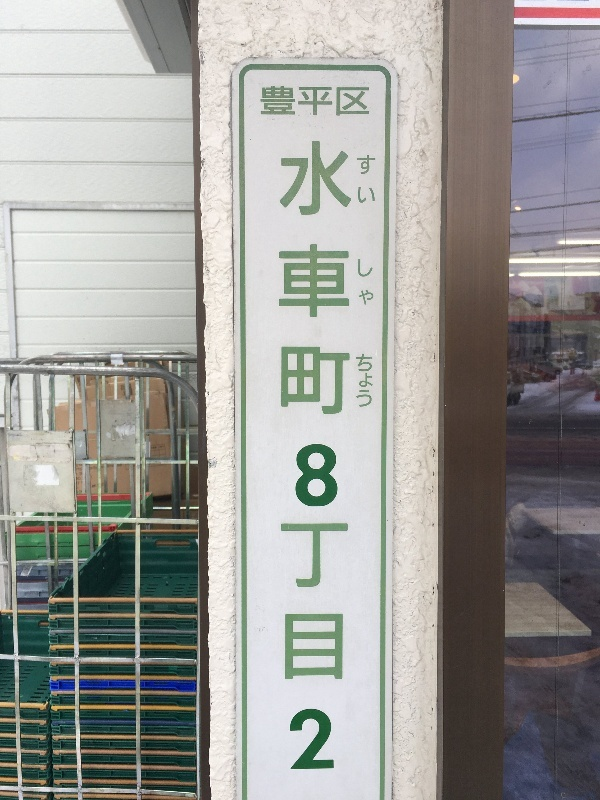text: (289, 139, 304, 775), (305, 139, 320, 775), (321, 139, 336, 775), (337, 139, 352, 775), (281, 139, 288, 775), (356, 354, 368, 408), (357, 155, 368, 205), (358, 258, 368, 306), (273, 85, 288, 116), (289, 85, 304, 116), (305, 85, 320, 116), (321, 85, 336, 116), (337, 85, 352, 116), (353, 85, 368, 116), (369, 155, 377, 205), (260, 85, 272, 116), (369, 258, 374, 306), (369, 354, 373, 408), (369, 85, 370, 116)
